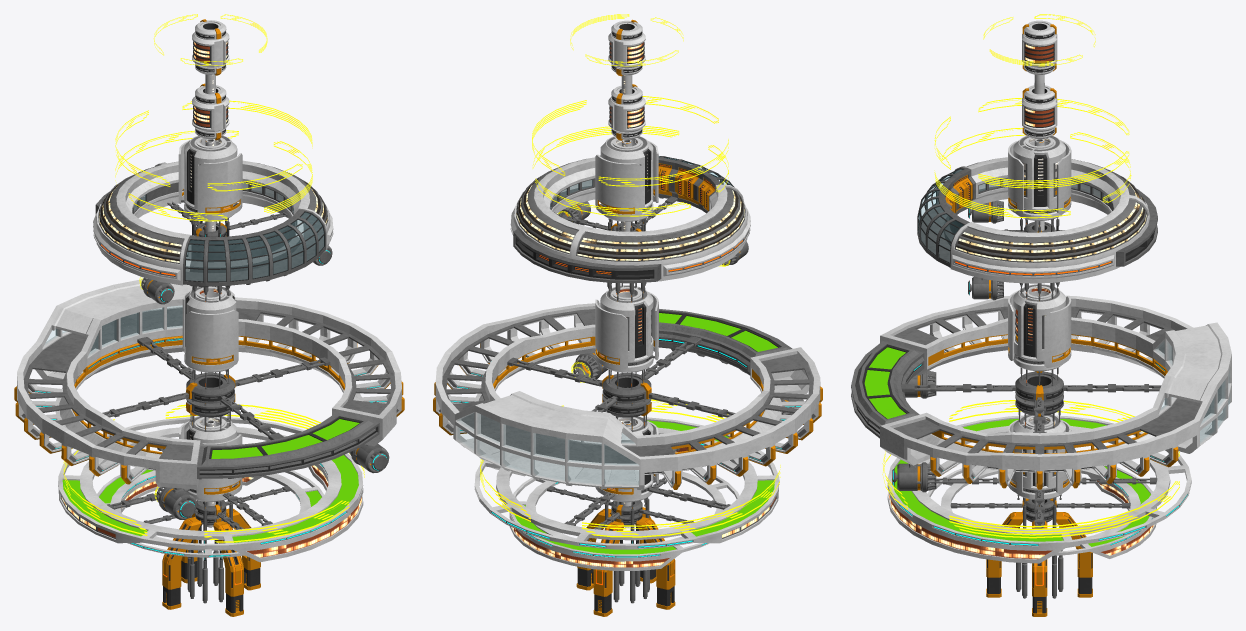
Rendered from 2050Tower.fbx.
3 renders of one model, left to right at view 1: azimuth 30°, elevation 25°; view 2: azimuth 150°, elevation 25°; view 3: azimuth 270°, elevation 25°, orthographic.
Visible parts, largest first — view 1: Cylinder.029, Cylinder.047, cc3.001, Cylinder.070, Cylinder.064, Cylinder.063, cc4.001, Cylinder.067, Cube.031, Cylinder.069, Cylinder.066, Cylinder.058 (+13 smaller); view 2: Cylinder.029, Cylinder.047, cc3.001, cc4.001, Cylinder.070, Cylinder.051, Cylinder.064, Cylinder.067, Cylinder.062, Cylinder.063, Cylinder.066, Cylinder.069 (+14 smaller); view 3: Cylinder.029, Cylinder.047, cc3.001, Cylinder.070, Cylinder.064, cc4.001, Cylinder.069, Cylinder.051, Cylinder.066, Cylinder.062, Cylinder.063, Cube.037 (+13 smaller).
Part boxes in pixels (x1,y1,x2,y2): Cylinder.029: (14,278,404,489); Cylinder.047: (93,160,333,287); cc3.001: (58,417,363,562); Cylinder.070: (197,413,379,479); Cylinder.064: (192,19,229,139); Cylinder.063: (182,291,238,369); cc4.001: (97,469,323,557); Cylinder.067: (178,140,242,218); Cube.031: (162,508,260,609); Cylinder.069: (63,404,364,542); Cylinder.066: (181,135,238,220); Cylinder.058: (186,372,235,417); Cylinder.029: (433,303,822,489); Cylinder.047: (510,155,750,283); cc3.001: (474,417,779,549); cc4.001: (509,471,739,570); Cylinder.070: (658,309,792,375); Cylinder.051: (516,177,744,260); Cylinder.064: (608,19,645,140); Cylinder.067: (595,141,658,218); Cylinder.062: (600,285,654,372); Cylinder.063: (595,292,658,369); Cylinder.066: (600,136,656,221); Cylinder.069: (480,399,780,537); Cylinder.029: (880,295,1231,489); Cylinder.047: (917,157,1157,283); cc3.001: (887,415,1191,563); Cylinder.070: (851,341,924,438); Cylinder.064: (1022,20,1057,138); cc4.001: (927,466,1156,558); Cylinder.069: (882,400,1179,538); Cylinder.051: (956,177,1146,261); Cylinder.066: (1010,135,1068,220); Cylinder.062: (1013,284,1065,371); Cylinder.063: (1008,290,1071,367); Cube.037: (986,512,1092,597).
Size of the model in its own units: 46758 by 75480 by 45782.
